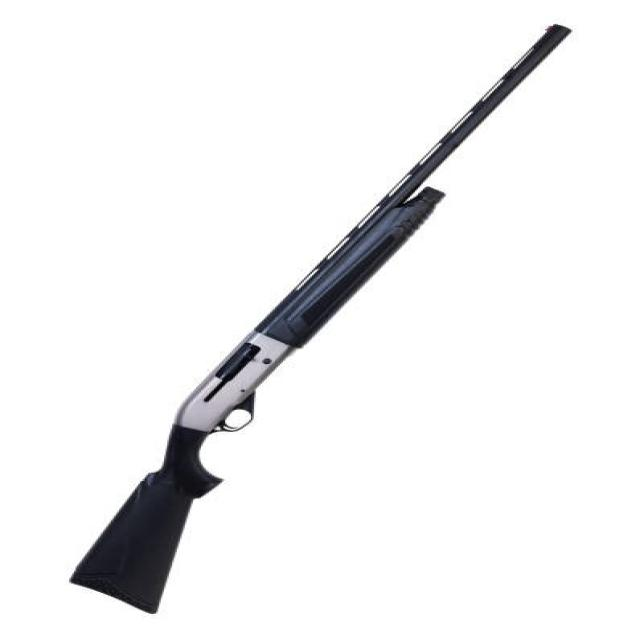rifle: (59, 16, 577, 626)
